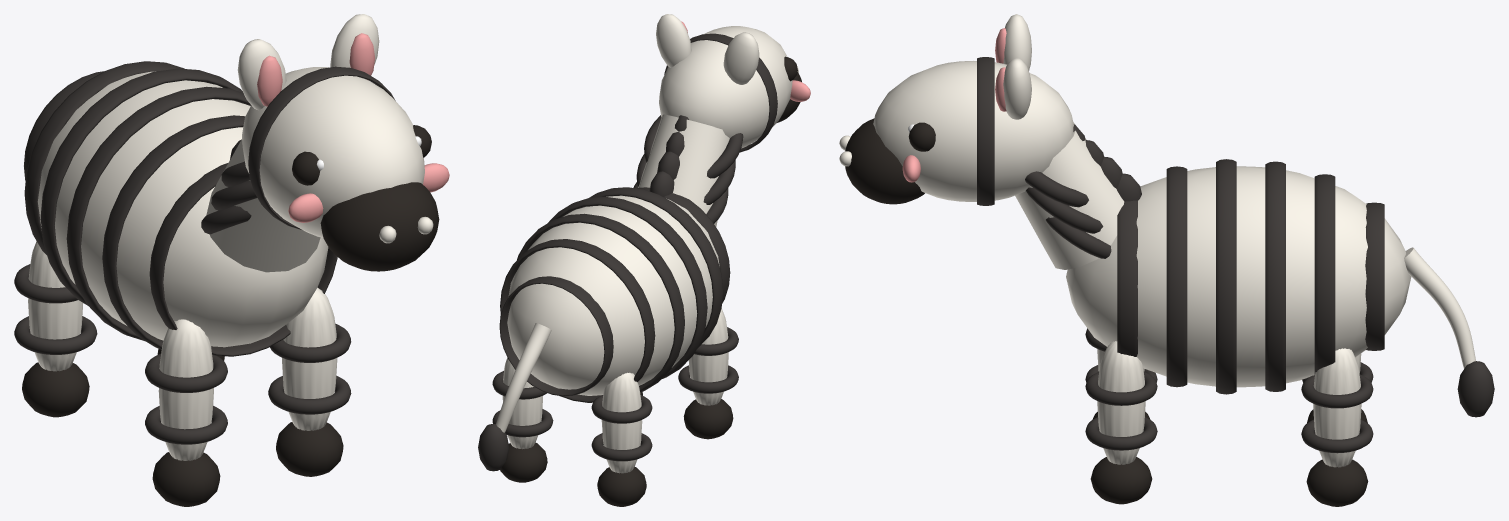
The model's file is zebra.glb.
3 renders of one model, left to right at view 1: azimuth 30°, elevation 25°; view 2: azimuth 150°, elevation 25°; view 3: azimuth 270°, elevation 25°, orthographic. The views are drawn at different scales.
Parts seen in each view (by area): view 1: body, skull, muzzle, stripe2, stripe3, leg0, neck, stripe1, leg1, stripe0, stripe4, leg2 (+21 smaller); view 2: body, skull, neck, stripe3, stripe2, stripe4, stripe5, leg2, stripe1, leg0, tailmesh, hoof0 (+19 smaller); view 3: body, skull, neck, stripe2, stripe1, stripe3, stripe4, muzzle, leg1, leg3, stripe0, stripe5 (+14 smaller).
Boxes of the visible parts, x1,y1,x2,y2 form: body: (37, 71, 328, 347); skull: (242, 67, 424, 237); muzzle: (320, 182, 439, 271); stripe2: (66, 86, 251, 341); stripe3: (40, 68, 243, 305); leg0: (158, 319, 213, 460); neck: (206, 139, 320, 272); stripe1: (102, 115, 245, 349); leg1: (282, 287, 337, 430); stripe0: (149, 163, 337, 356); stripe4: (24, 61, 184, 254); leg2: (28, 241, 83, 371); body: (507, 195, 719, 395); skull: (659, 26, 792, 148); neck: (638, 114, 729, 226); stripe3: (517, 213, 684, 392); stripe2: (548, 196, 707, 378); stripe4: (500, 239, 655, 402); stripe5: (499, 276, 613, 396); leg2: (601, 372, 642, 473); stripe1: (589, 187, 723, 348); leg0: (688, 308, 728, 405); tailmesh: (496, 323, 551, 432); hoof0: (683, 399, 733, 439); body: (1066, 166, 1411, 387); skull: (873, 61, 1073, 201); neck: (1015, 122, 1124, 269); stripe2: (1216, 159, 1236, 394); stripe1: (1166, 166, 1187, 387); stripe3: (1265, 161, 1285, 391); stripe4: (1314, 174, 1335, 375); muzzle: (845, 118, 924, 204); leg1: (1097, 341, 1145, 464); leg3: (1313, 348, 1361, 467); stripe0: (1117, 200, 1137, 356); stripe5: (1365, 202, 1384, 350).
Size of the model in its own units: 0.764 by 1.57 by 2.12.
